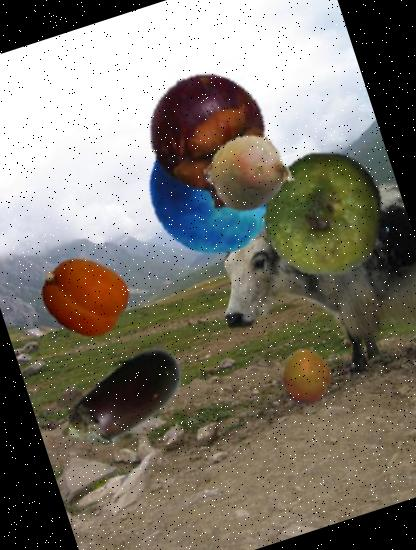Apricot: (30, 242, 138, 350)
Eggplant: (32, 312, 212, 492)
Huckleberry: (132, 110, 294, 271)
Limes: (246, 133, 406, 293)
Mandarine: (272, 340, 344, 412)
Mangostan: (124, 52, 300, 227)
Potato: (193, 116, 304, 228)
